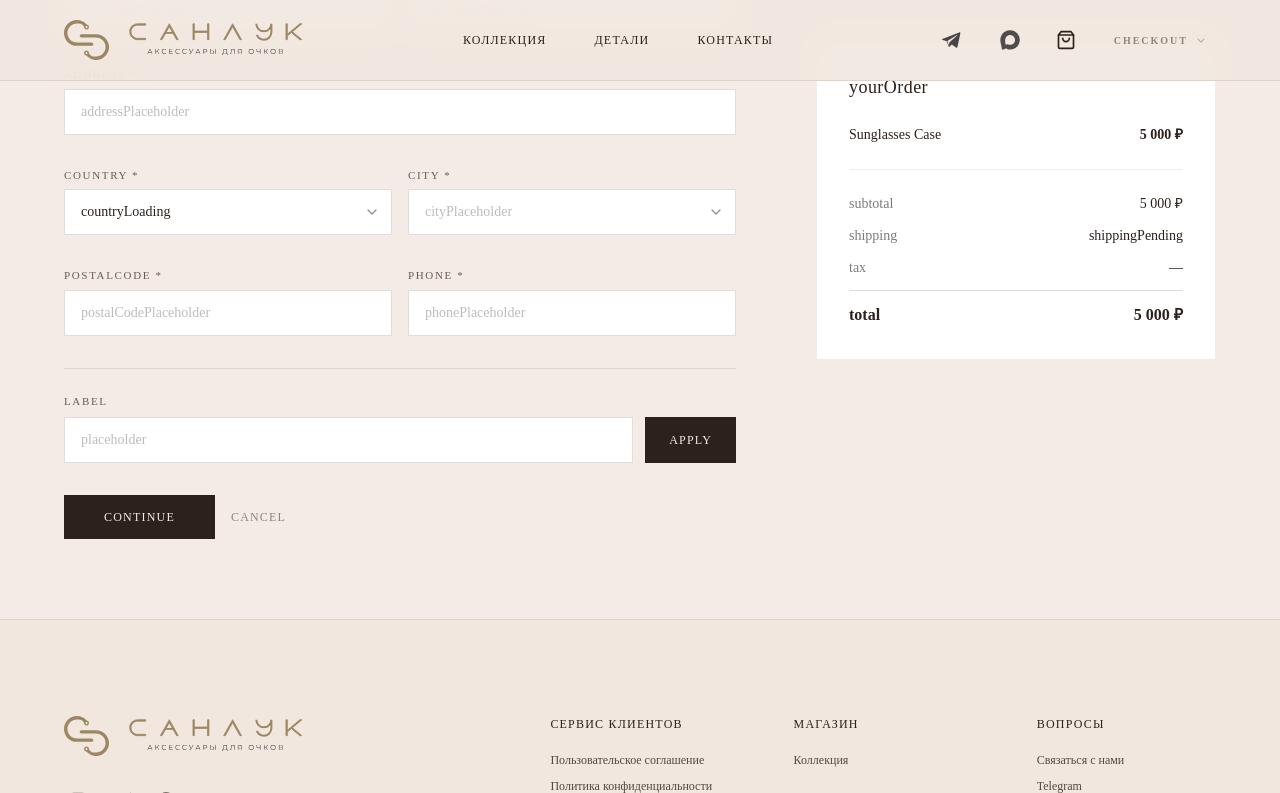
Test: Checkout Promotions › handles promotion rejection: preserves prior cart and renders localized error feedback
The image size is (1280, 793).
(page scrolled)
In the field with placeholder "placeholder": (349, 440) [64,417,633,463], type "INVALID"
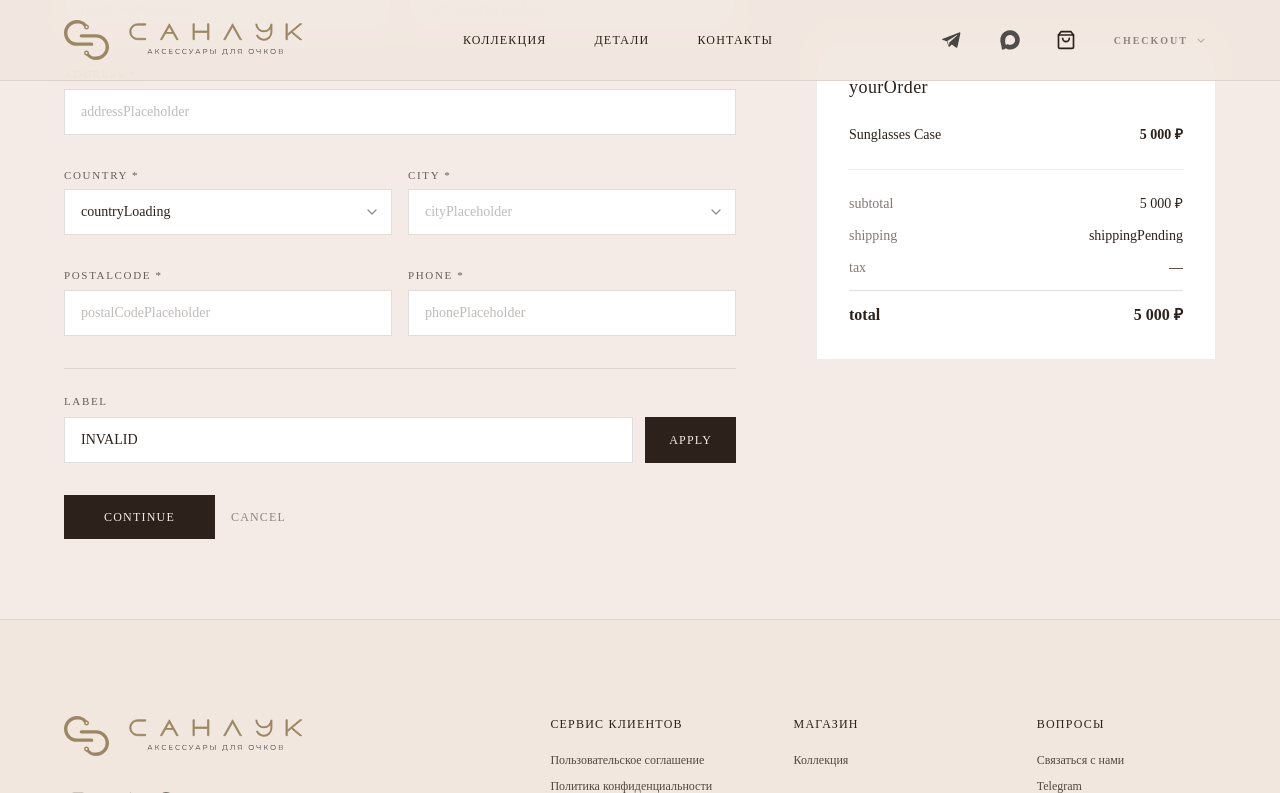
Click the button "apply": (691, 440) [645,417,736,463]
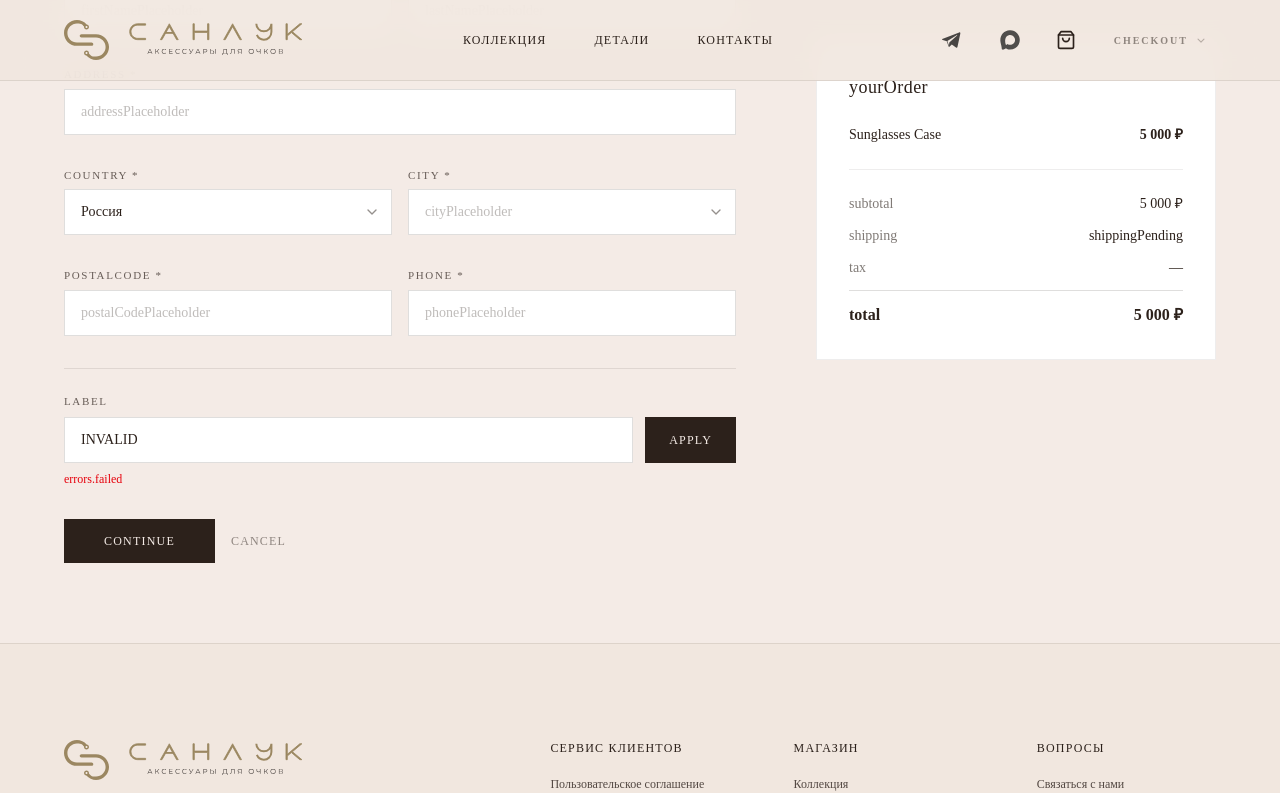
Expected: the message reads "errors.failed", [64,472,122,486]
